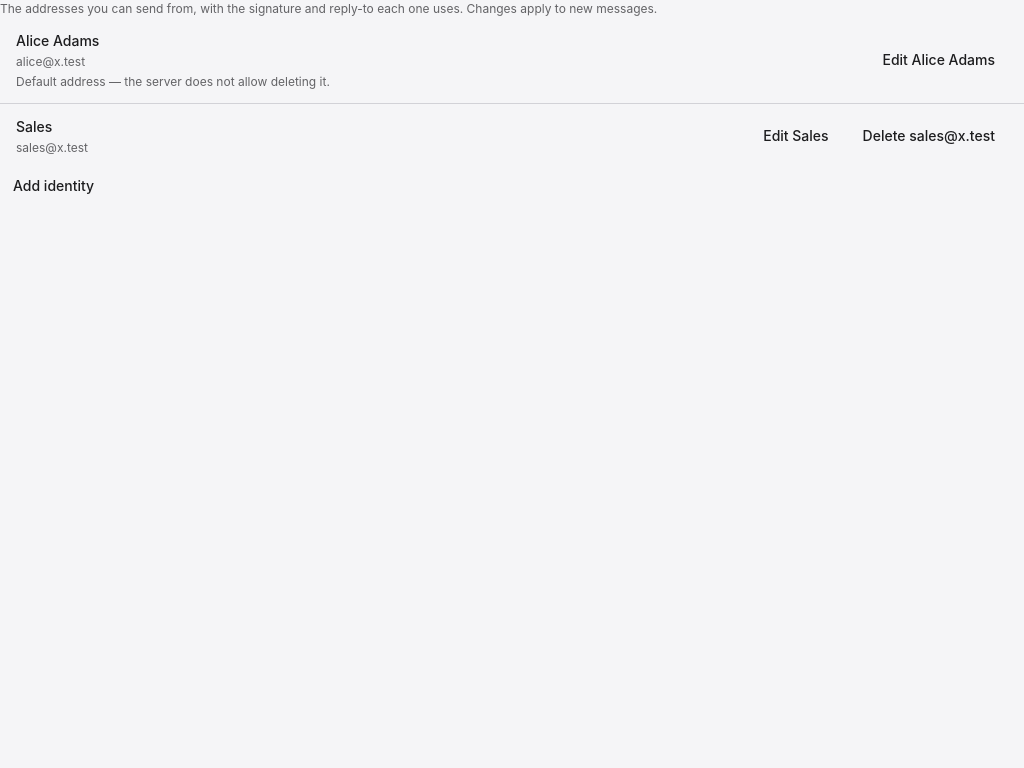
Test: <IdentitiesSection> › asks before deleting, and only the confirmation reaches the server
The width and height of the screenshot is (1024, 768).
Click the button "Delete sales@x.test" at (929, 136), box [850,120,1008,154]
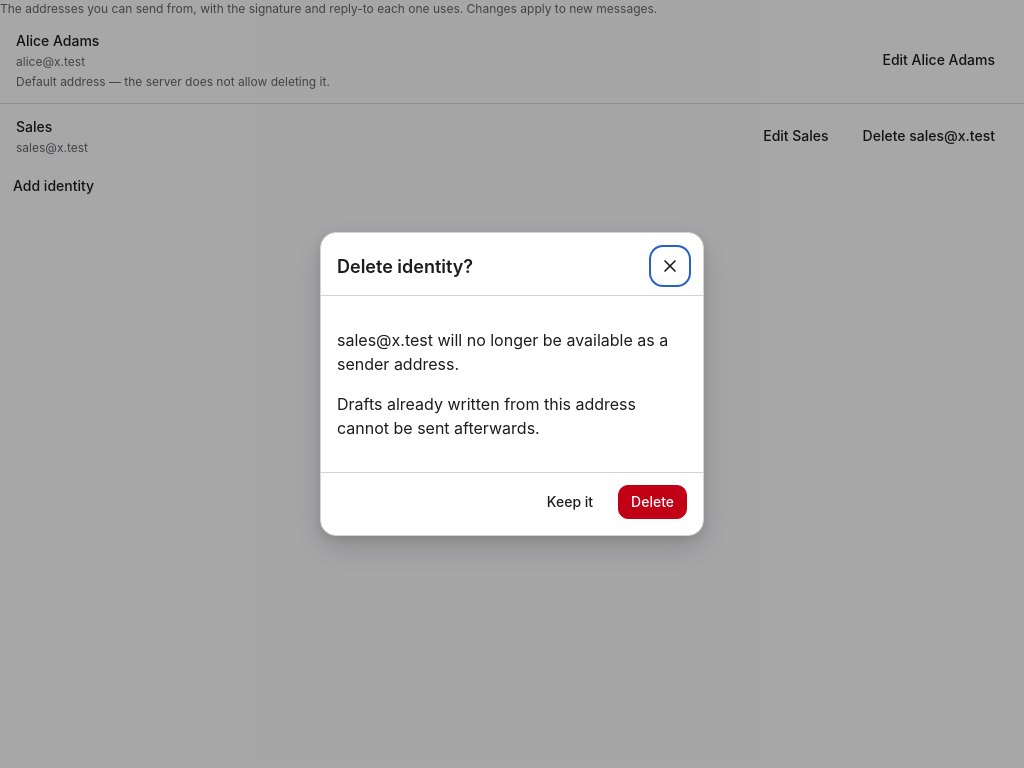
Expected: the text "sales@x.test will no longer be available as a sender address." is shown, [337,328,687,376]
Note: Backing out destroys nothing…
Click the button "Keep it" at (570, 502), box [534,485,606,519]
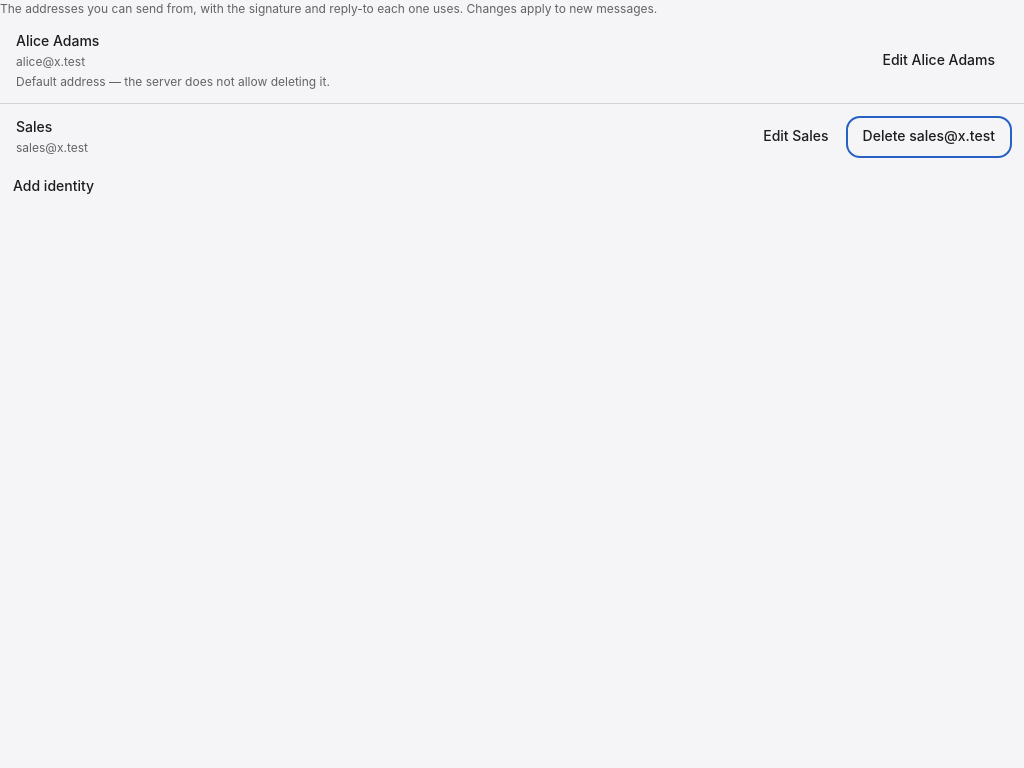
Expected: the dialog is gone
Note: …and only the confirm button does.
Click the button "Delete sales@x.test" at (929, 136), box [850,120,1008,154]
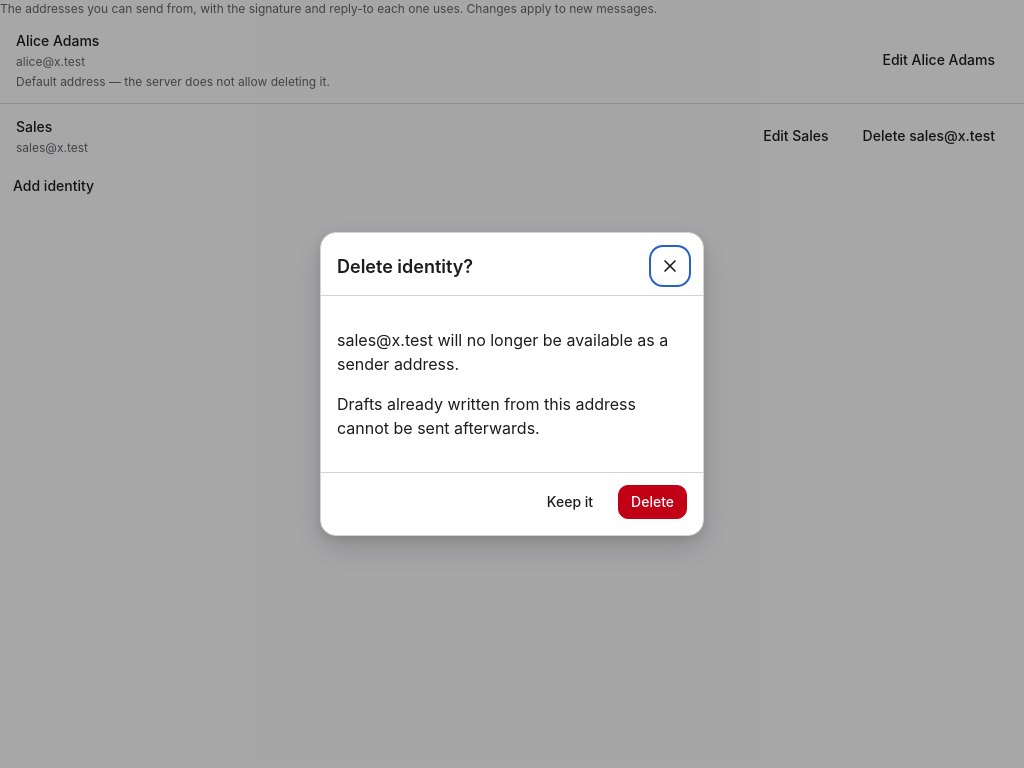
Click the button "Delete" at (653, 502), box [618,485,687,519]
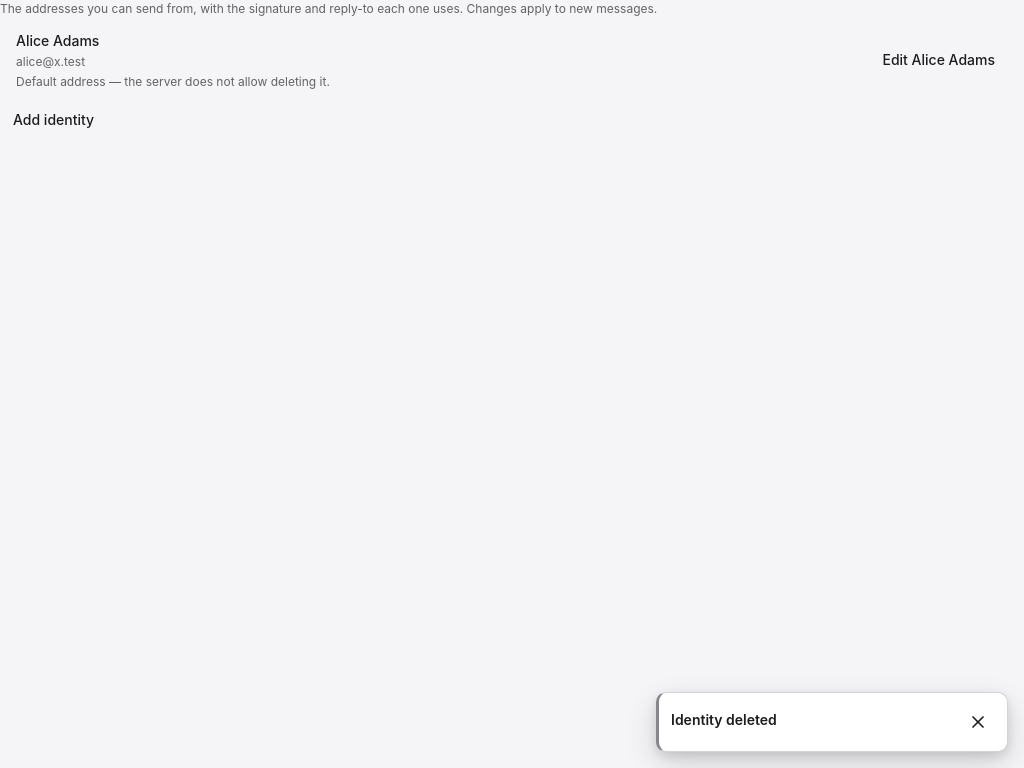
Expected: the text "sales@x.test" is gone
